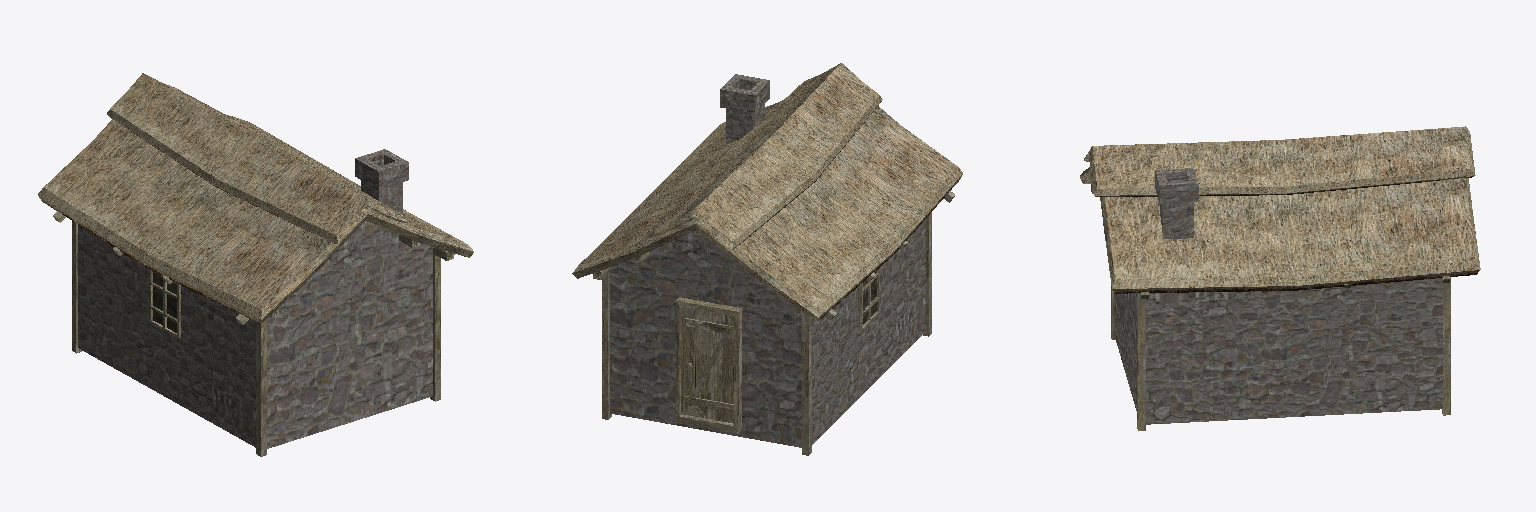
3 renders of one model, left to right at view 1: azimuth 30°, elevation 25°; view 2: azimuth 150°, elevation 25°; view 3: azimuth 270°, elevation 25°, orthographic.
Parts seen in each view (by area): view 1: Cube.007_Cube; view 2: Cube.007_Cube; view 3: Cube.007_Cube.
Boxes of the visible parts, x1,y1,x2,y2 form: Cube.007_Cube: [38, 73, 473, 456]; Cube.007_Cube: [572, 63, 962, 455]; Cube.007_Cube: [1080, 126, 1480, 430].
Size of the model in its own units: 8.97 by 7.63 by 11.57.
Materials: 1 (1 with a texture image).